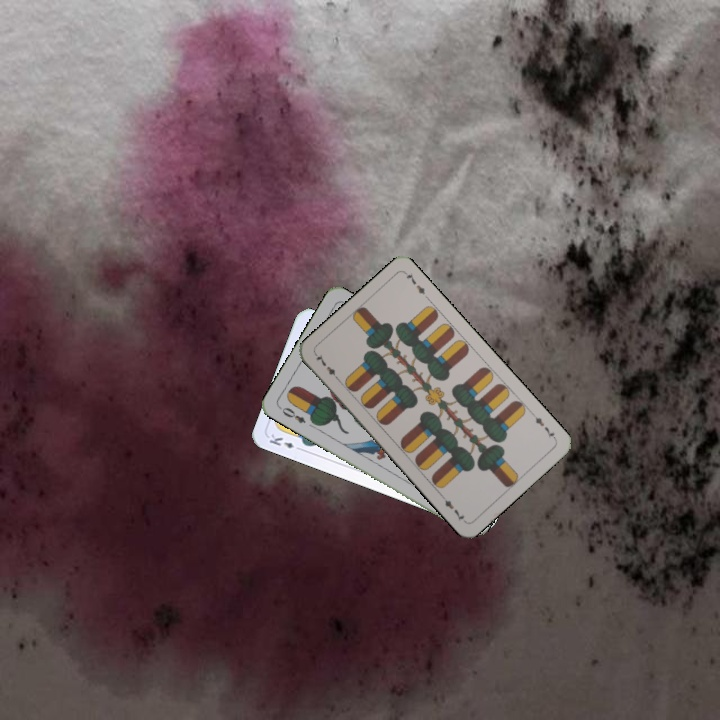E7: (311, 350, 342, 384), (528, 409, 559, 442)
EK: (265, 430, 305, 453)
EO: (275, 403, 308, 426)
